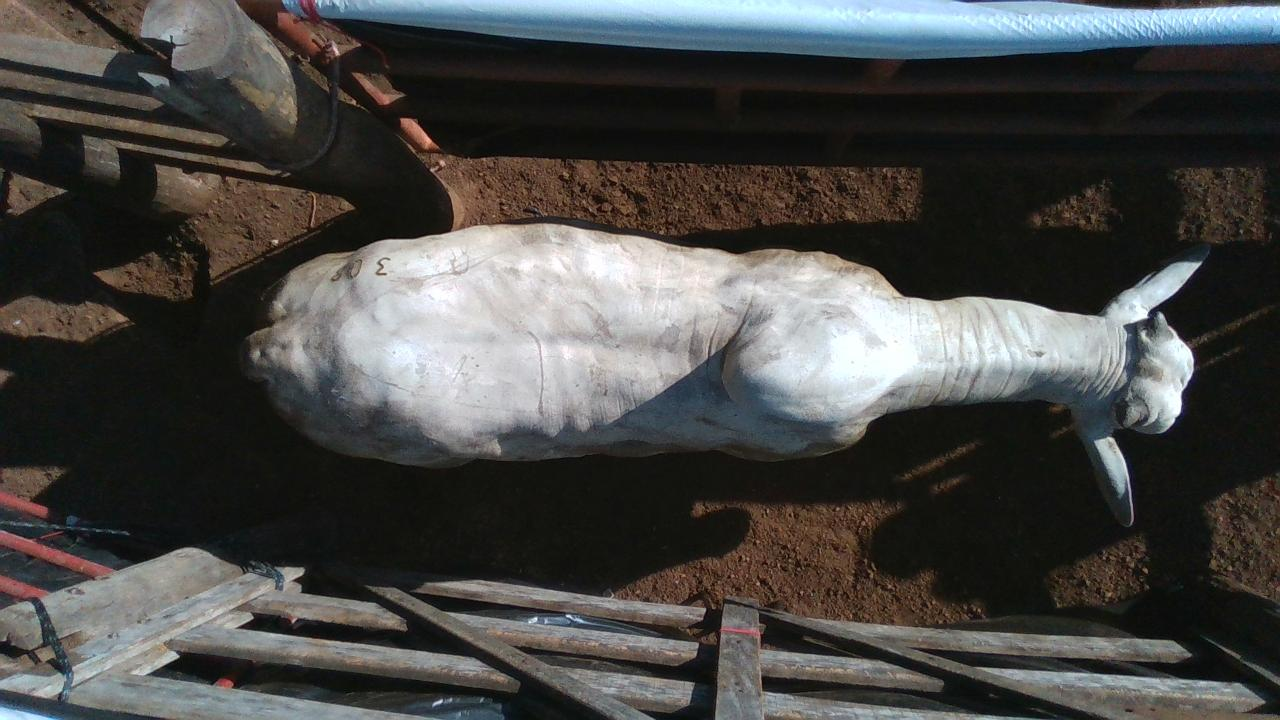cattle: (237, 215, 1211, 528)
